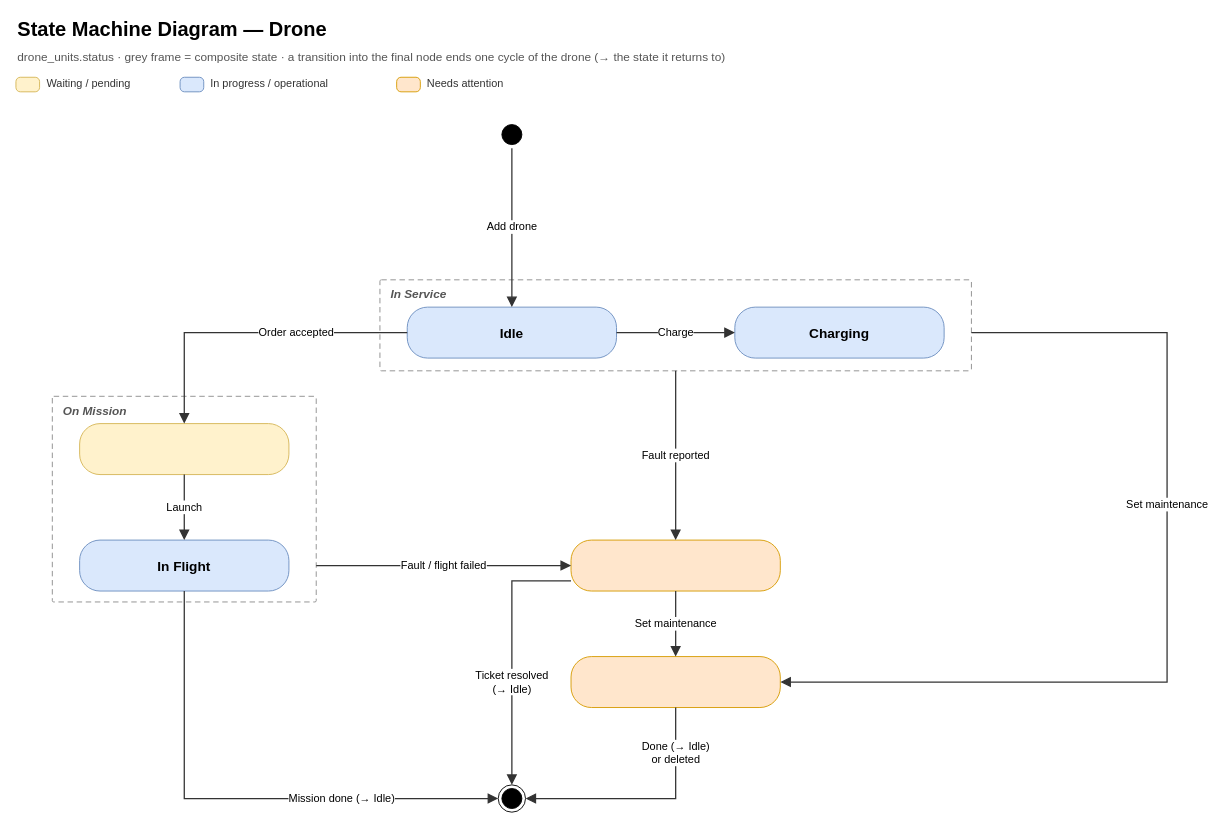
Some shapes in this 1224 by 829 pixel diagram are drawn without their labels. Each missing label, with the centre of its shape:
Fault: the point at 675,565
Maintenance: the point at 675,682
Reserved: the point at 184,449
